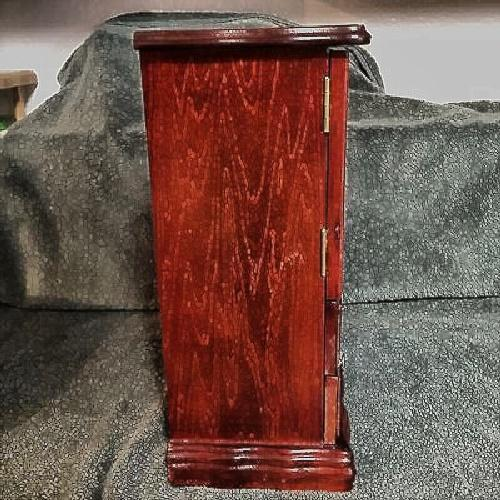cabinet: (121, 22, 366, 480)
